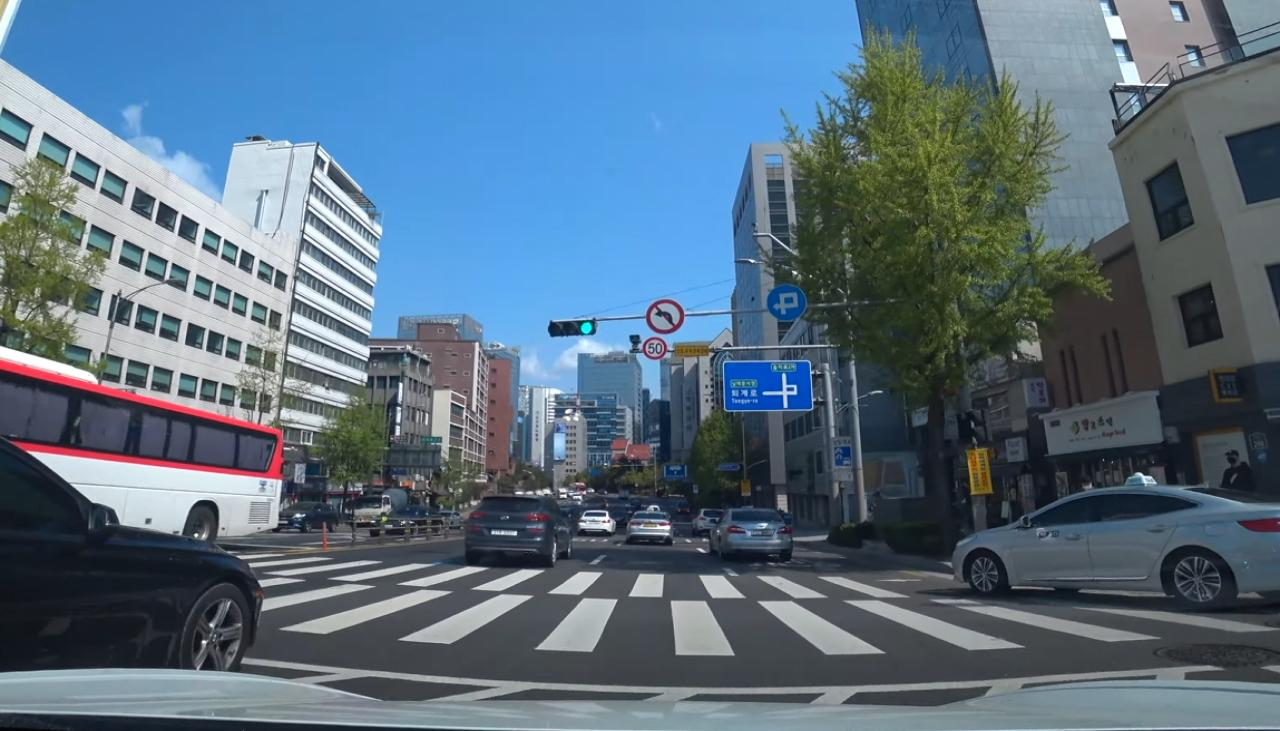Green Light: (580, 321, 596, 335)
